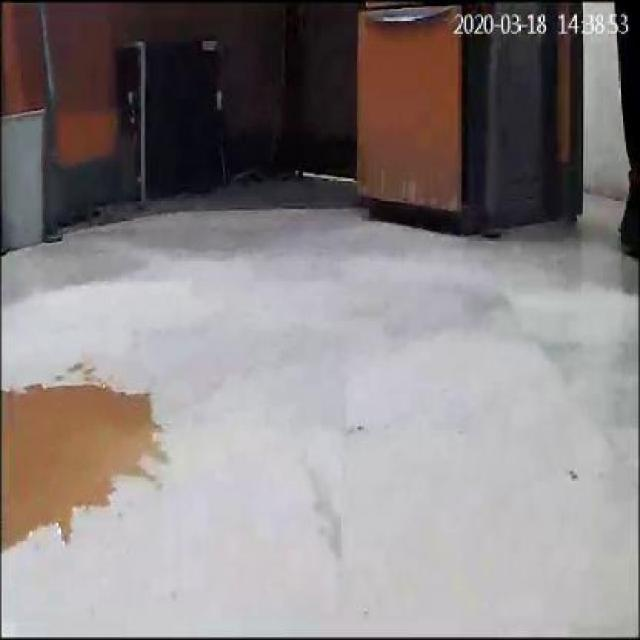spill: (0, 374, 169, 570)
